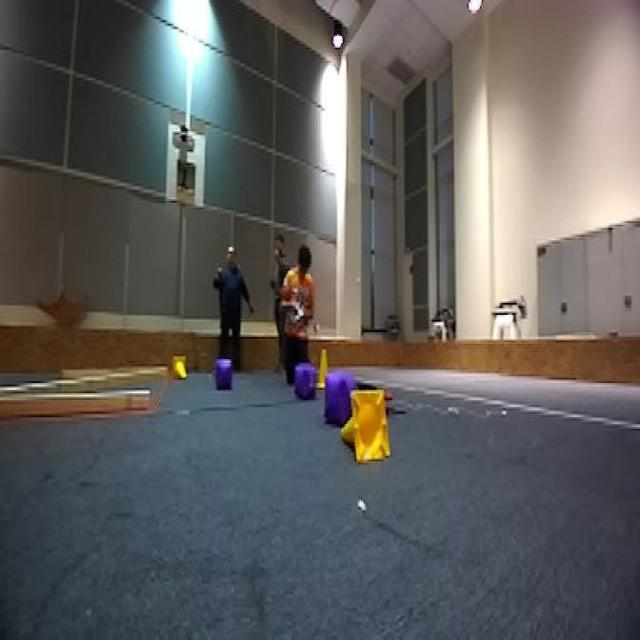frc_cone: (347, 386, 395, 466), (315, 347, 336, 390), (172, 356, 188, 380)
frc_cube: (324, 369, 360, 431), (290, 361, 316, 400), (214, 352, 234, 388)
